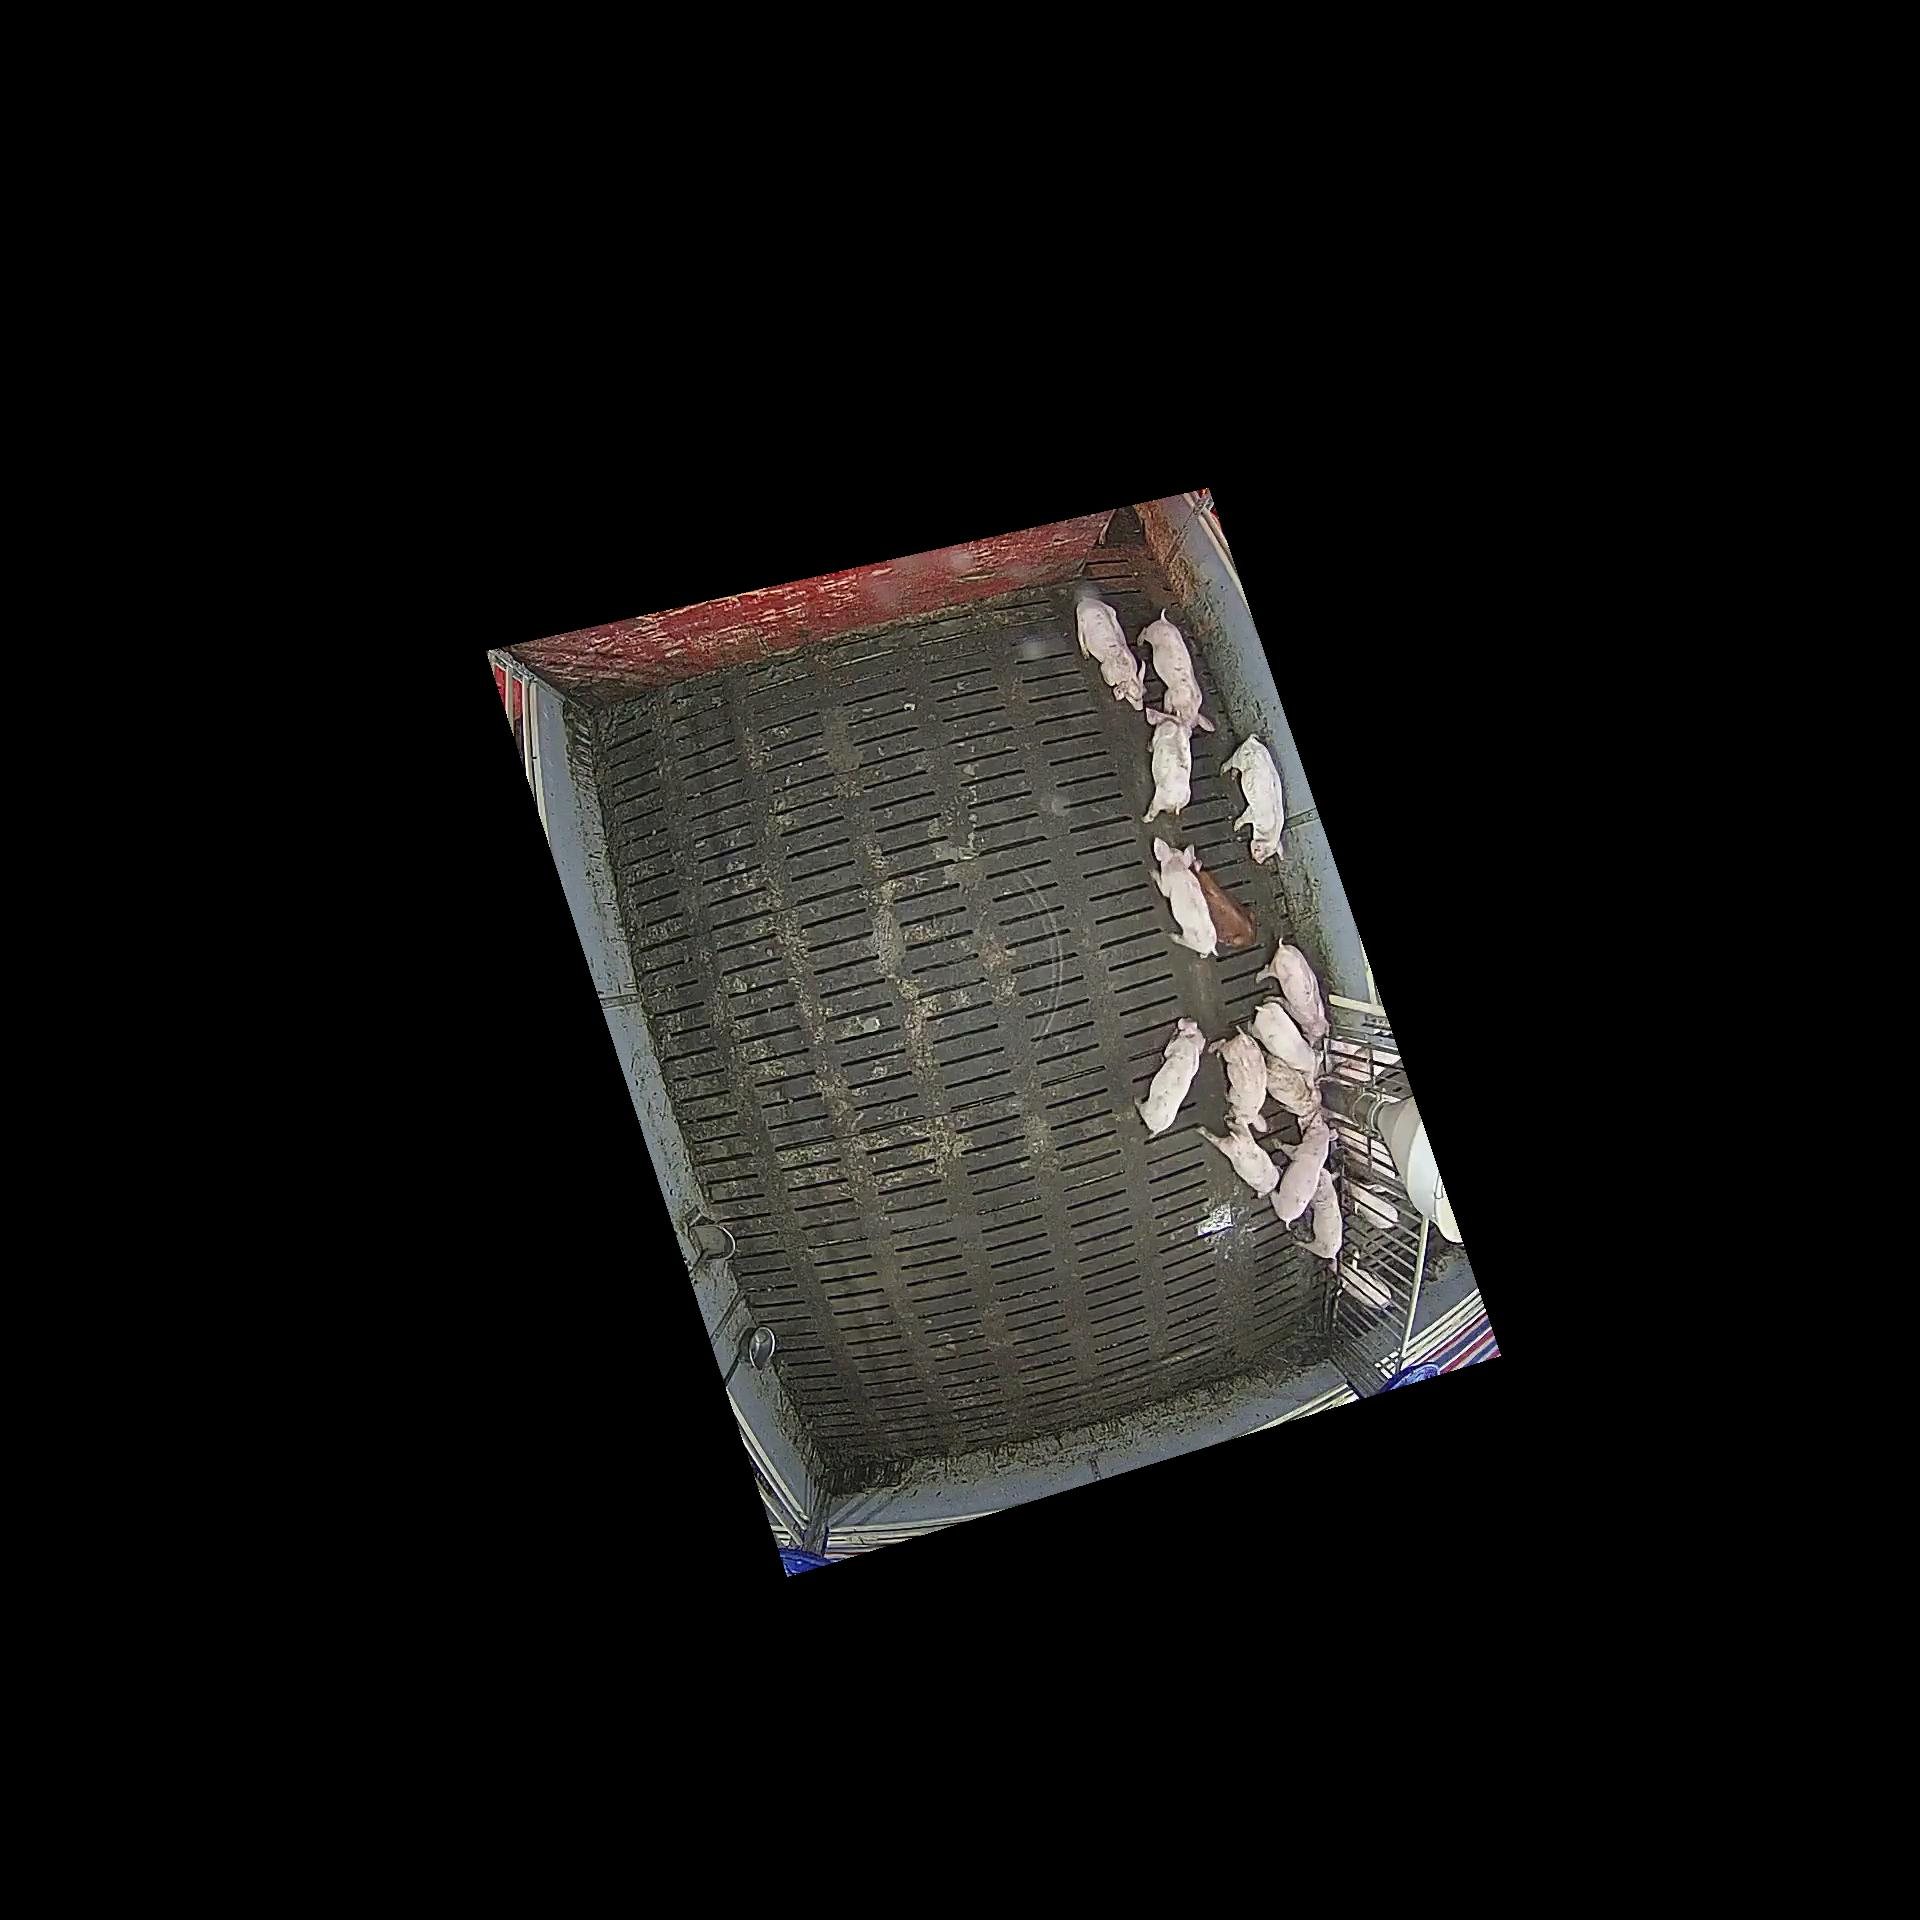pig: (1136, 608, 1215, 737), (1134, 1018, 1206, 1139), (1150, 837, 1220, 958), (1076, 593, 1148, 710), (1220, 735, 1285, 865), (1255, 937, 1329, 1048), (1271, 1115, 1338, 1231), (1243, 1002, 1326, 1090), (1194, 1120, 1284, 1197), (1208, 1025, 1268, 1131), (1190, 860, 1257, 946), (1141, 707, 1190, 823), (1262, 1051, 1326, 1136), (1292, 1167, 1343, 1259)
